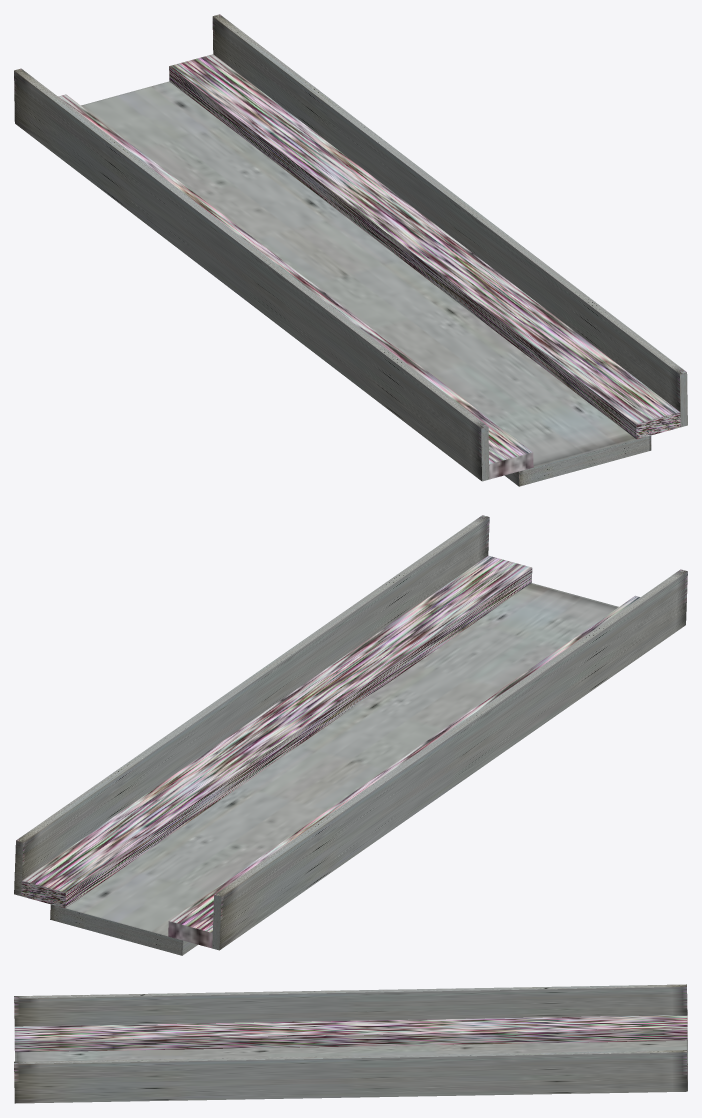
The model's file is GMLID_BUI205585_1385_1373.gltf.
3 views of the same model, one above another, from view 1: azimuth 30°, elevation 25°; view 2: azimuth 150°, elevation 25°; view 3: azimuth 270°, elevation 25° (orthographic). The views are drawn at different scales.
Visible parts, largest first — view 1: Z_UP; view 2: Z_UP; view 3: Z_UP.
Part boxes in pixels (x1,y1,x2,y2): Z_UP: (14,14,687,486); Z_UP: (14,515,687,955); Z_UP: (14,984,687,1103).
Size of the model in its own units: 8.46 by 3.52 by 33.05.
1 material, 1 textured.
